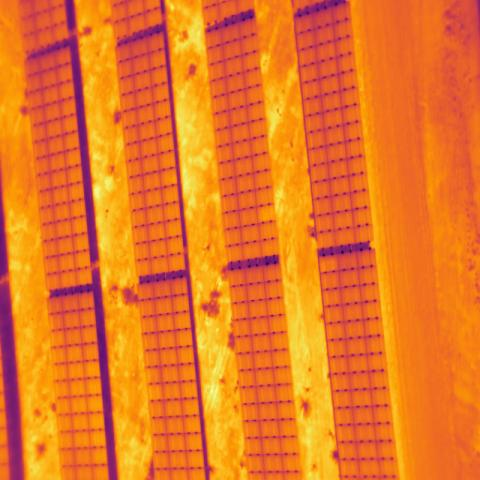fault: (256, 203, 277, 225), (159, 167, 179, 188)
